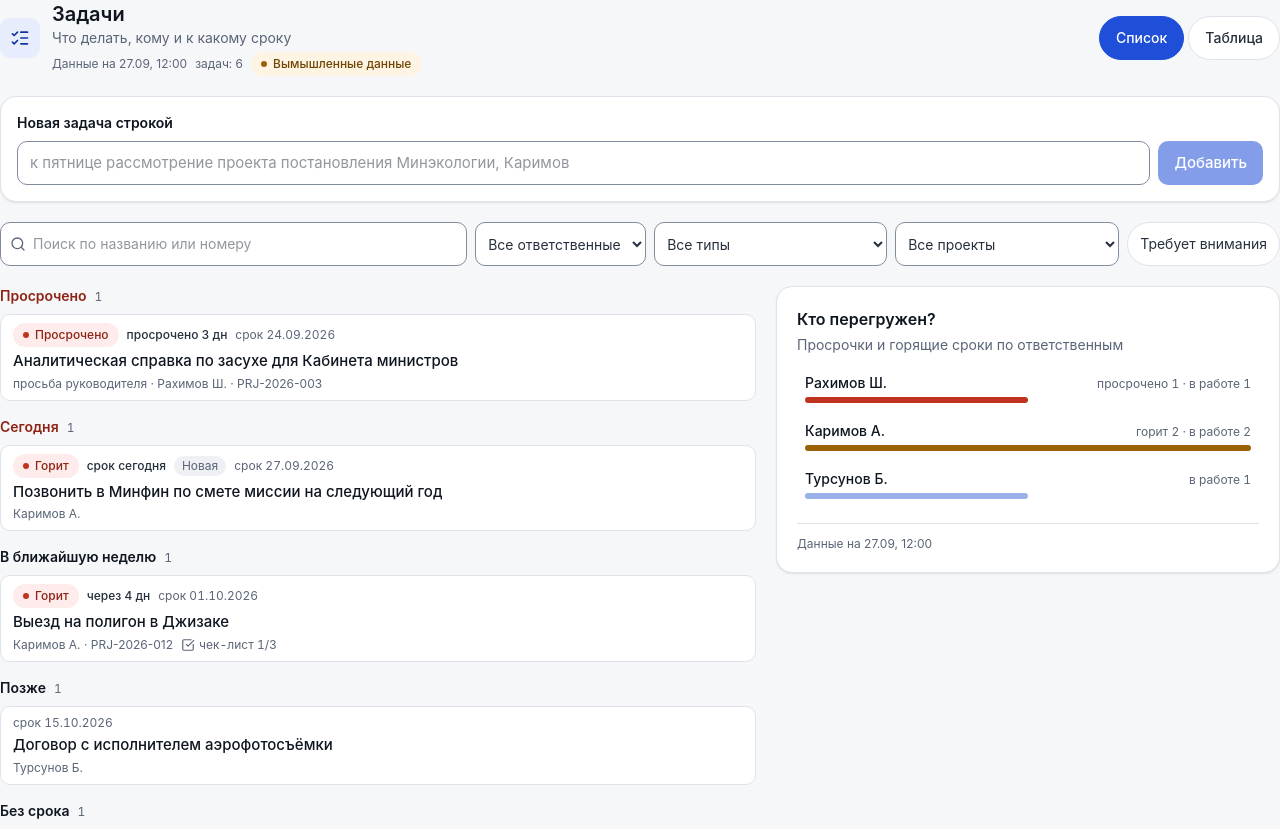
Задачи › карточка: переходы от сервера, отметка и статус уходят с версией
Click the text "Выезд на полигон в Джизаке": {"x": 121, "y": 623} [13,612,229,633]
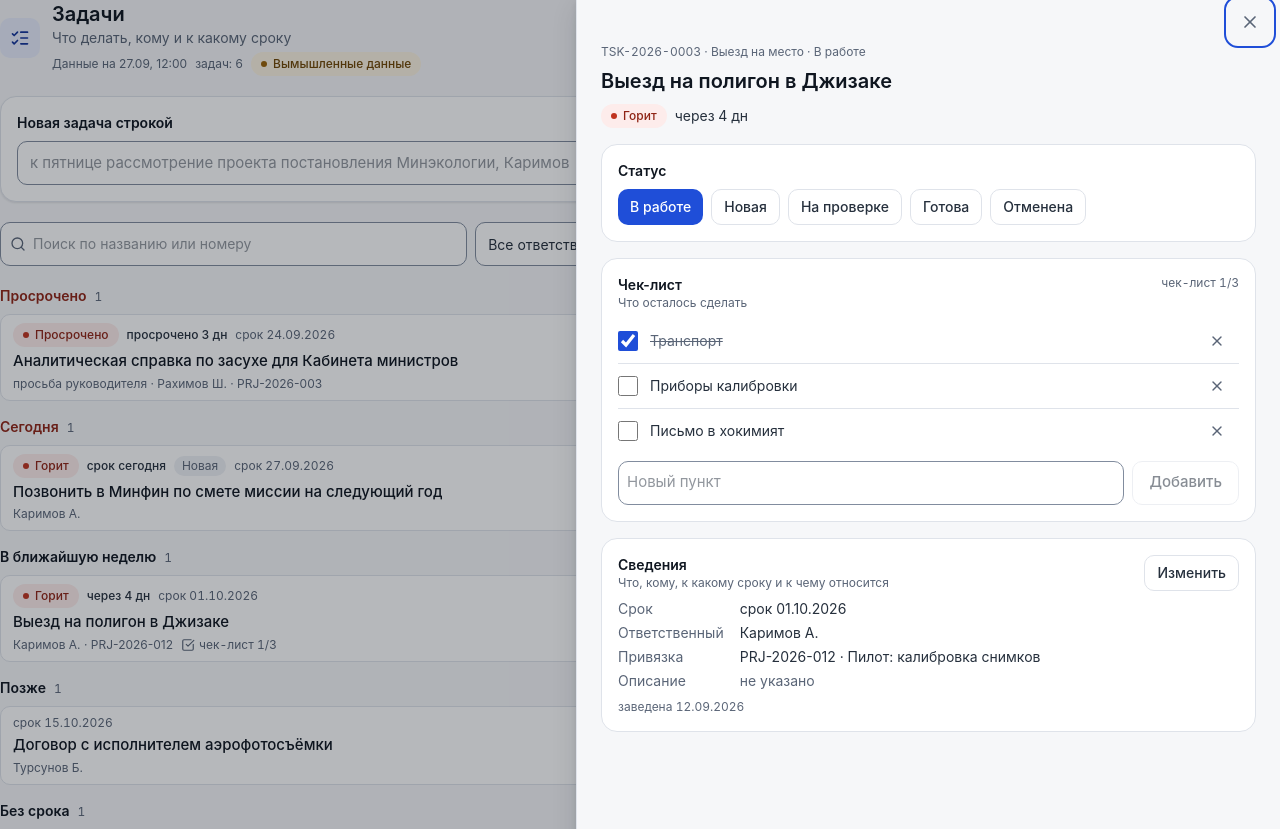
Expected: the buttons read "Новая", "На проверке", "Готова", "Отменена", in this order, [711,188,780,224]; [788,188,902,224]; [910,188,982,224]; [990,188,1086,224]
Click the checkbox labelled "Приборы калибровки": {"x": 628, "y": 386} [618,376,638,396]
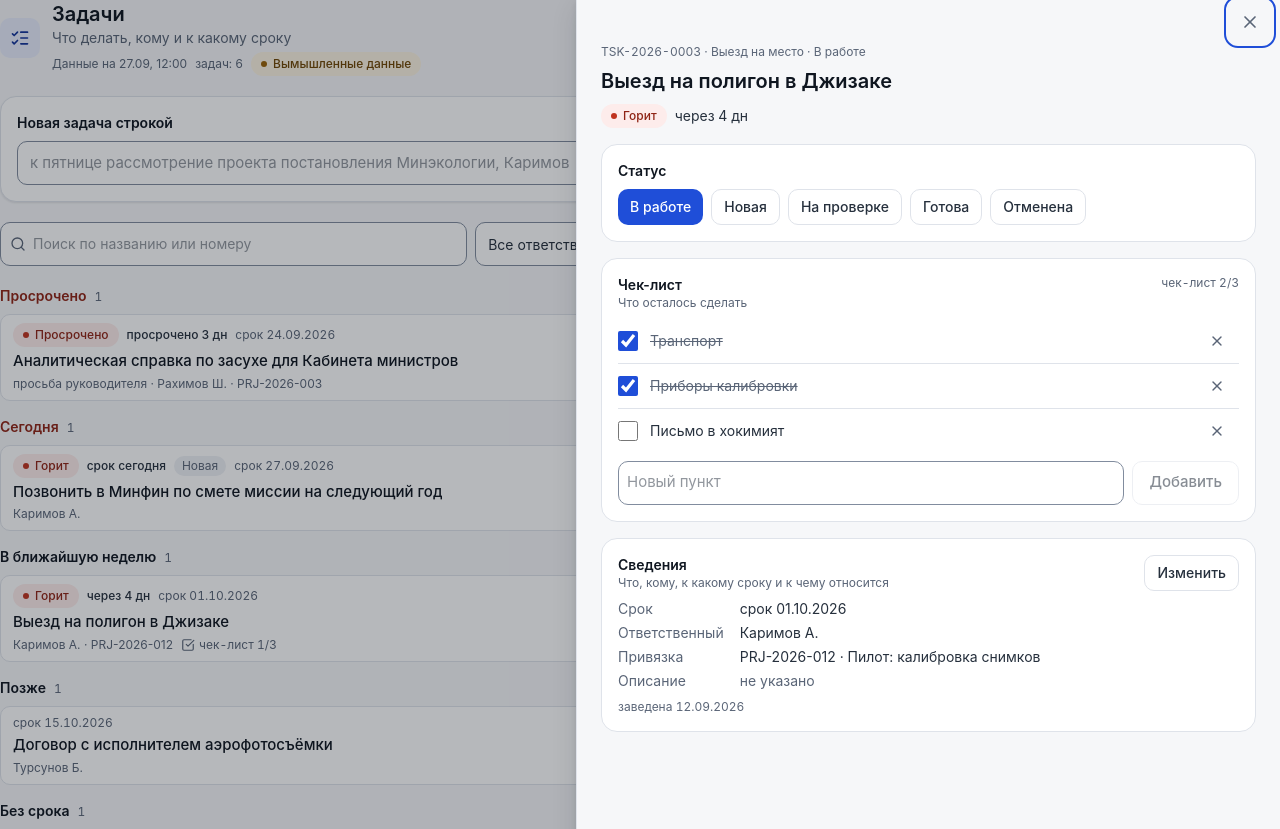
Expected: the text "чек-лист 2/3" is shown, [1161,274,1239,290]
Click the button "На проверке": {"x": 845, "y": 206} [788,188,902,224]
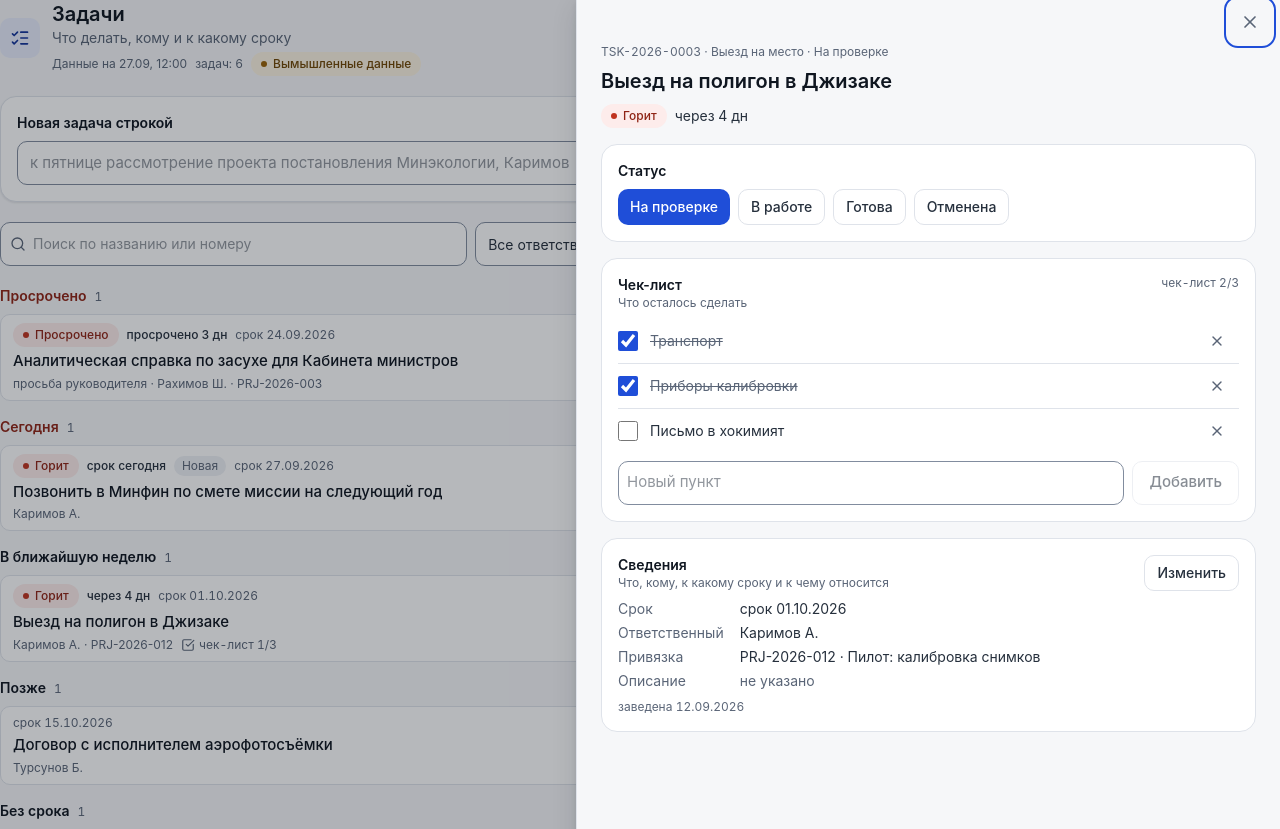
Expected: the buttons read "В работе", "Готова", "Отменена", in this order, [738,188,825,224]; [833,188,906,224]; [914,188,1009,224]
